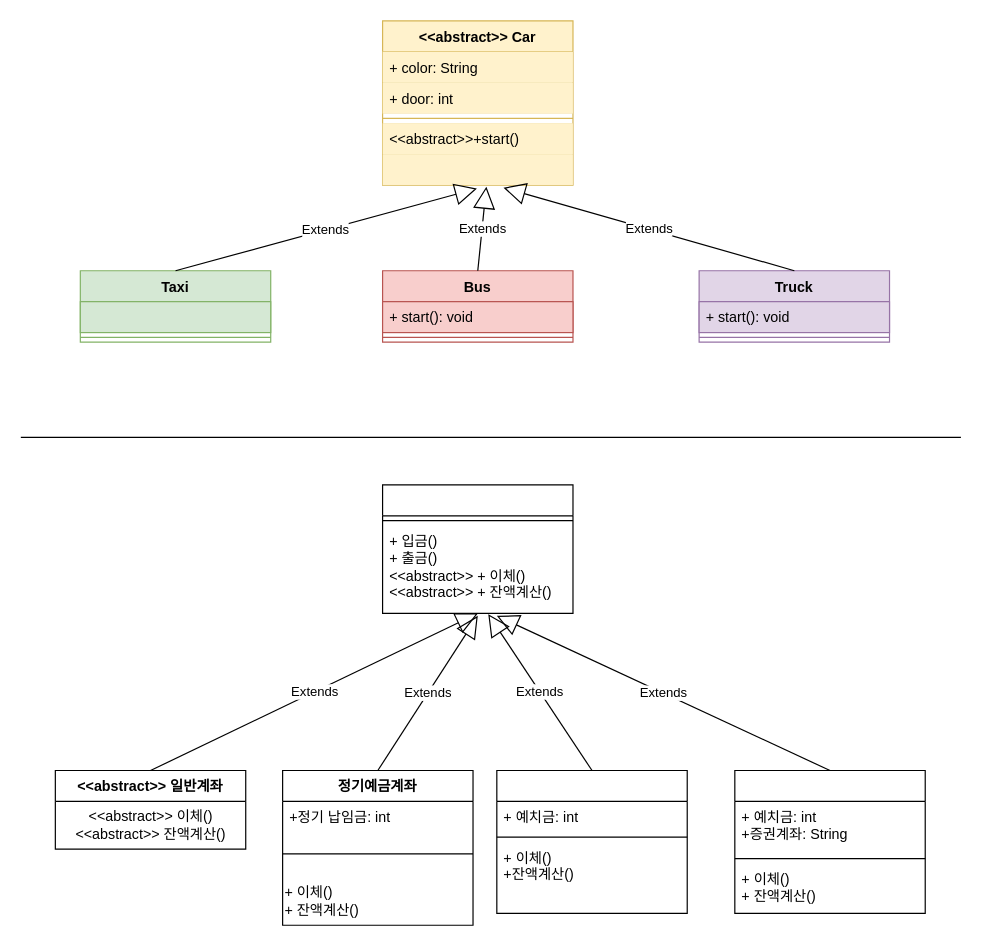
The diagram is 983 pixels wide and 946 high, and some of its shapes have lost their labels. Each missing label, with the box of its shape:
+ start():void: (79, 300, 271, 333)
+carPlay(c:Car): (382, 154, 572, 184)
<<abstract>> 계좌: (381, 484, 573, 613)
자산관리계좌: (496, 769, 687, 913)
증권예탁계좌: (734, 769, 925, 913)
